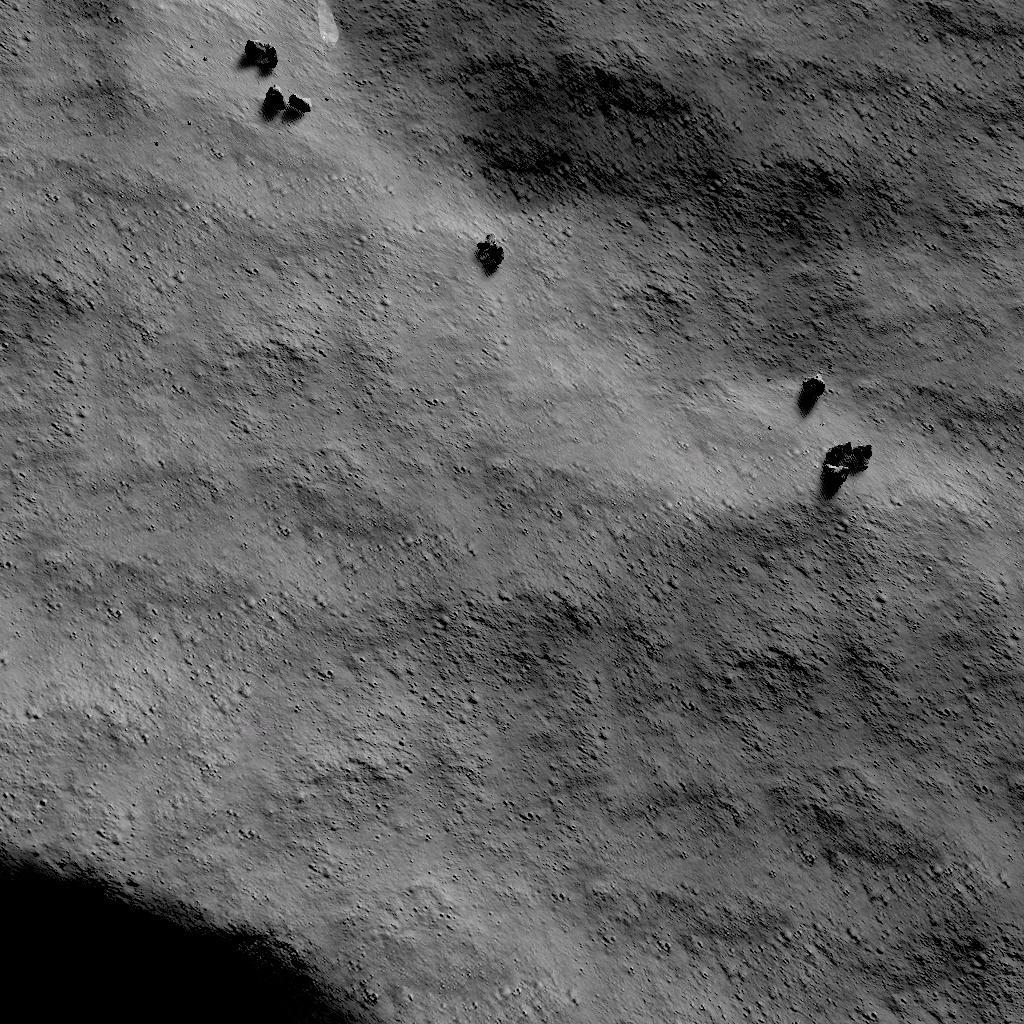Crater: (0, 818, 389, 1024), (0, 0, 184, 340)
Plan surface: (5, 360, 735, 802), (539, 2, 1024, 344), (415, 820, 1024, 1024), (757, 516, 1024, 801)
